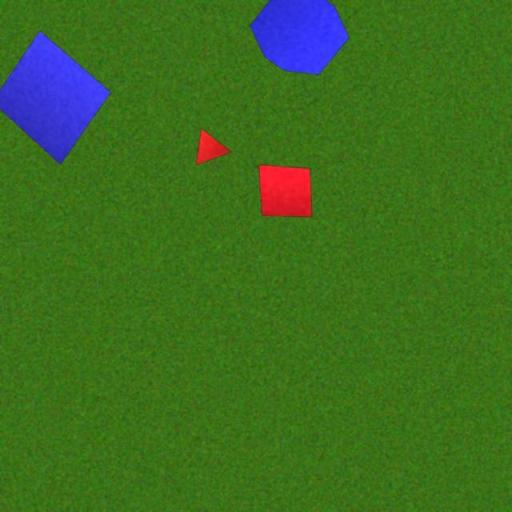BLUE_SQUARE: (0, 30, 111, 164)
RED_SQUARE: (258, 164, 313, 218)
